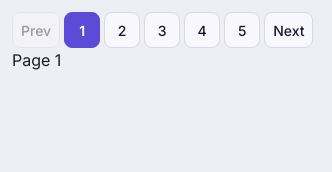
Test: Pagination › navigation › jumps to a specific page when a page button is clicked
The width and height of the screenshot is (332, 172).
Click the button named "Page 3".
click(162, 30)  # box [144,12,180,48]
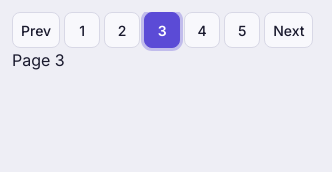
Expected: the text with test id "page-display" reads "Page 3", [12,50,65,70]
